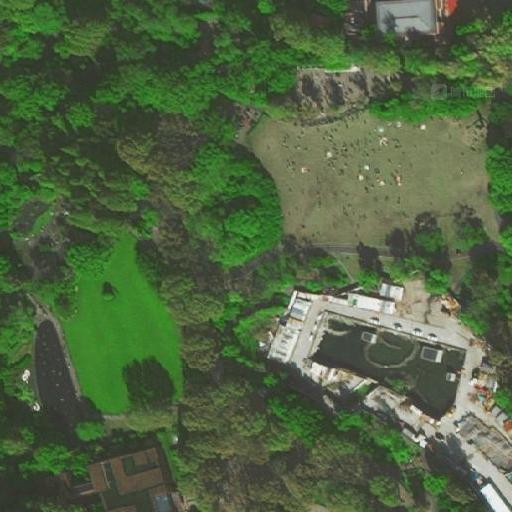building: (92, 447, 169, 505), (306, 346, 369, 390), (34, 468, 79, 511), (338, 3, 364, 35)
